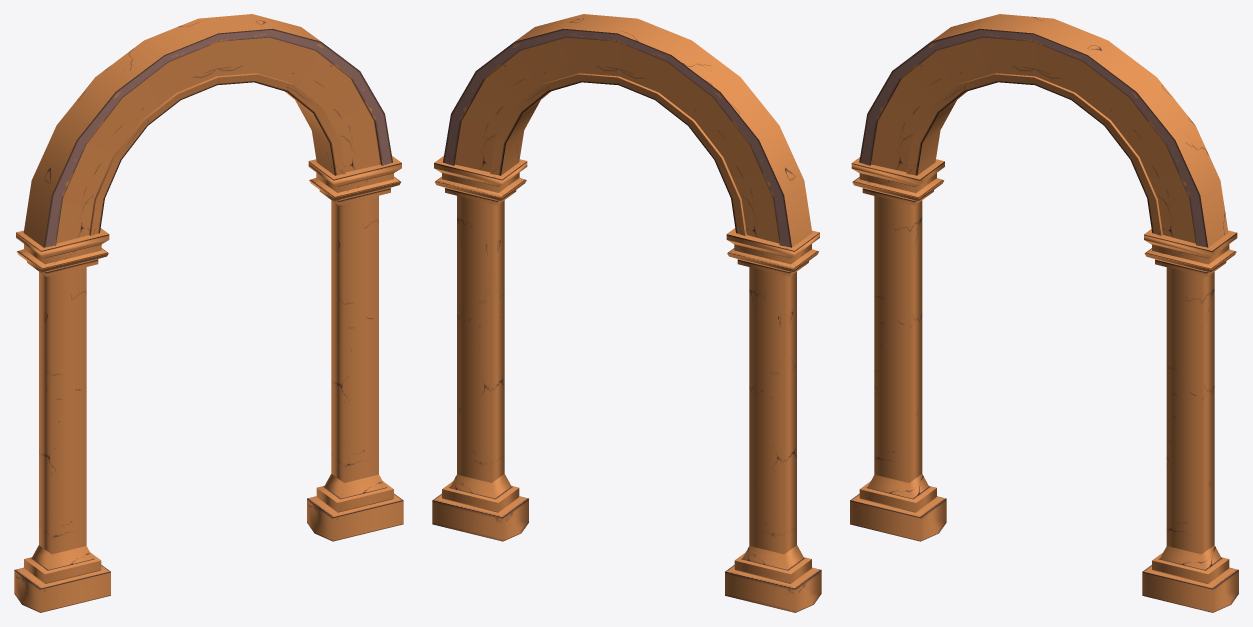
File: Archway_1.fbx
The picture shows the model from 3 angles, left to right: view 1: azimuth 30°, elevation 25°; view 2: azimuth 150°, elevation 25°; view 3: azimuth 330°, elevation 25°; orthographic projection.
Visible parts, largest first — view 1: Archway; view 2: Archway; view 3: Archway.
Part boxes in pixels (x1,y1,x2,y2): Archway: (14,14,403,612); Archway: (432,14,821,612); Archway: (850,14,1238,612).
Bounding box in the file's own units: 927 × 112 × 1263.
